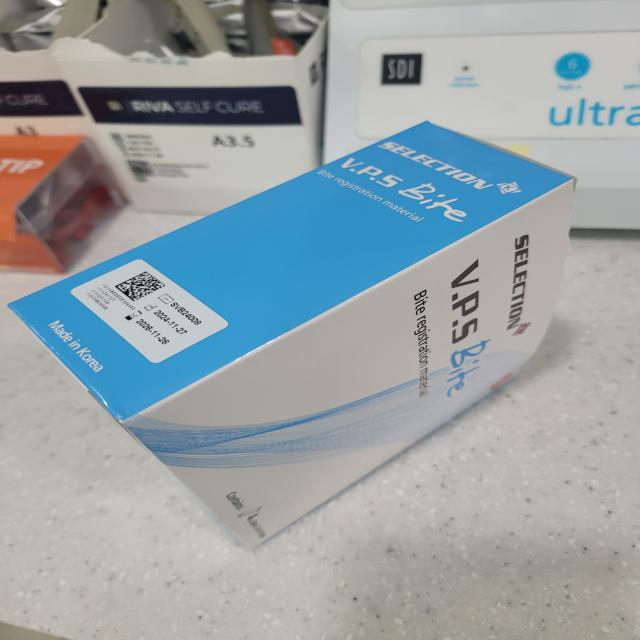impression: (9, 97, 599, 574)
